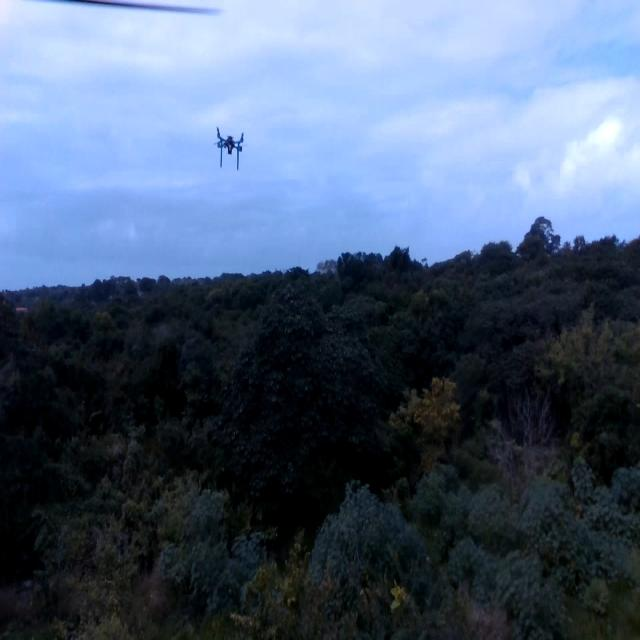-uav-: (205, 118, 252, 180)
